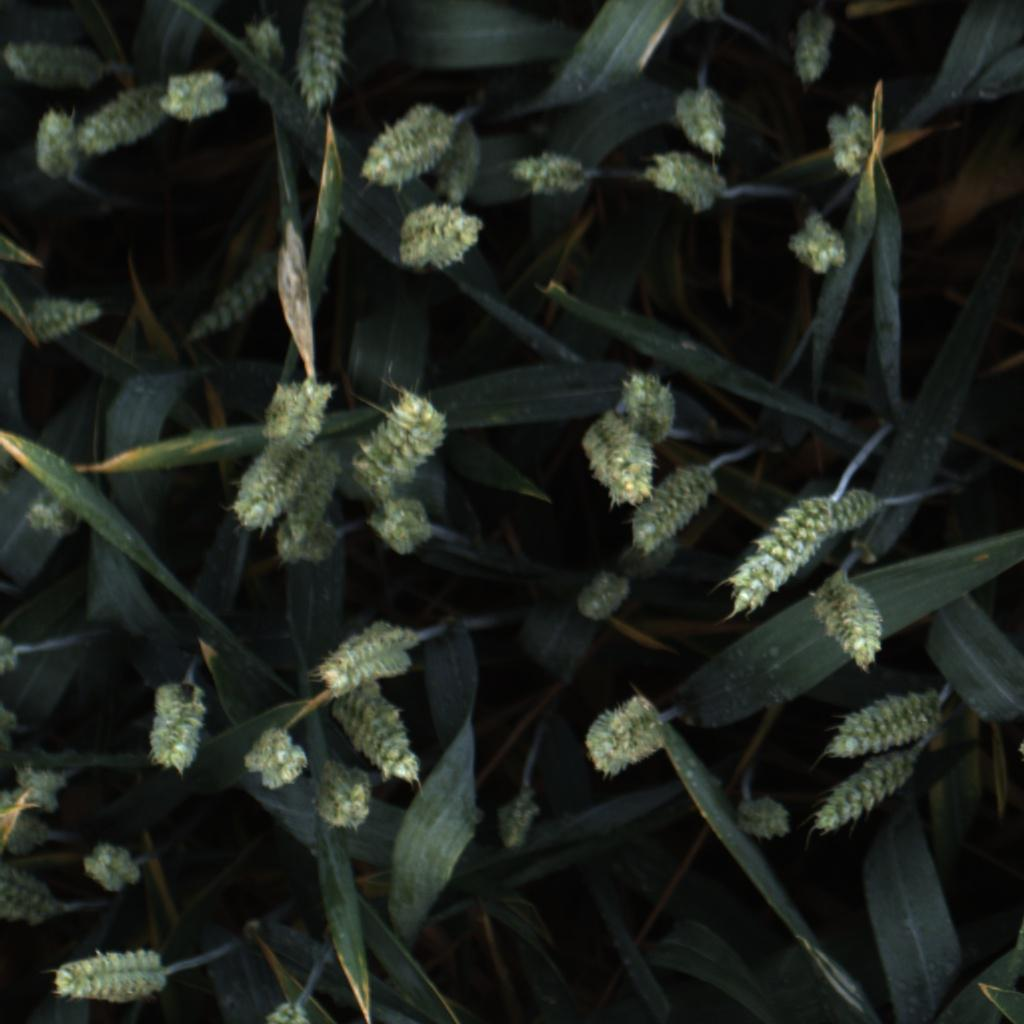0-0: (723, 489, 837, 615), (175, 243, 293, 352), (351, 390, 453, 488), (622, 459, 724, 555), (816, 685, 943, 762), (334, 689, 431, 782), (302, 616, 415, 693), (352, 99, 447, 189), (584, 690, 666, 783), (276, 439, 346, 547), (812, 759, 908, 837), (70, 84, 167, 161), (811, 578, 887, 675), (138, 676, 206, 781), (220, 445, 302, 530), (579, 413, 655, 504), (50, 948, 168, 1006), (292, 0, 350, 117), (395, 199, 483, 274), (641, 150, 734, 220), (784, 478, 887, 536), (7, 30, 103, 91), (259, 374, 336, 449), (307, 757, 377, 835), (238, 724, 311, 794), (614, 365, 687, 435), (160, 57, 234, 125), (672, 81, 734, 162), (360, 491, 437, 555), (505, 143, 593, 199), (784, 214, 856, 280), (29, 101, 82, 186), (78, 834, 146, 899), (789, 11, 843, 90), (571, 563, 637, 627), (28, 287, 102, 343), (270, 524, 341, 582), (826, 104, 880, 180), (7, 760, 74, 815), (22, 483, 84, 542), (493, 787, 542, 856), (4, 859, 53, 927), (734, 791, 797, 842), (239, 16, 290, 74)
